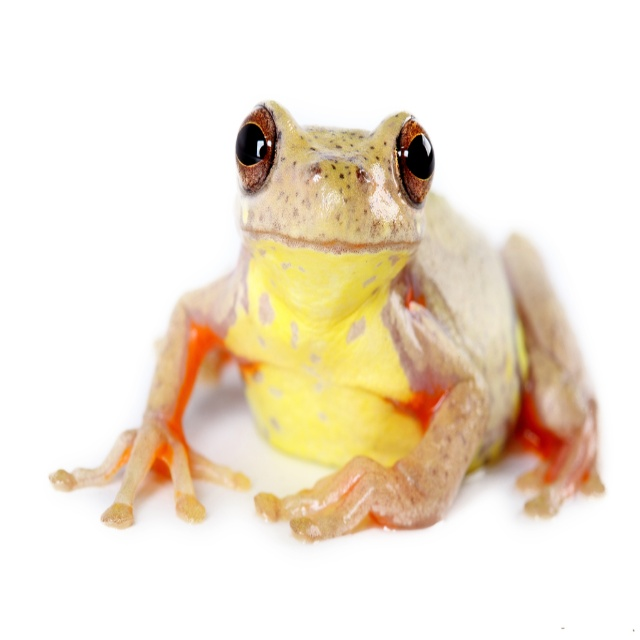Frog: (50, 97, 605, 537)
